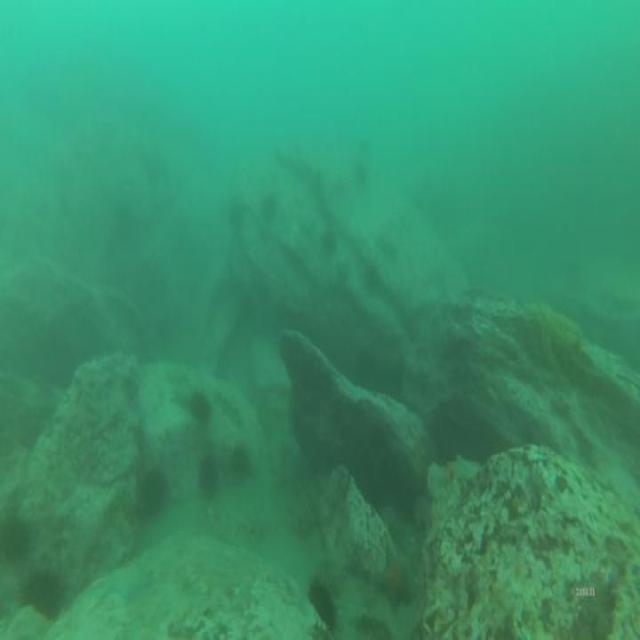echinus: (20, 564, 63, 623), (0, 507, 34, 572), (136, 462, 171, 522), (306, 577, 340, 635), (196, 449, 222, 502), (227, 441, 254, 487), (223, 193, 249, 240), (188, 386, 214, 428), (316, 220, 341, 260), (361, 259, 385, 297), (258, 190, 280, 228)
holothurian: (211, 384, 245, 430), (346, 610, 394, 640)
starfish: (372, 545, 418, 610)
